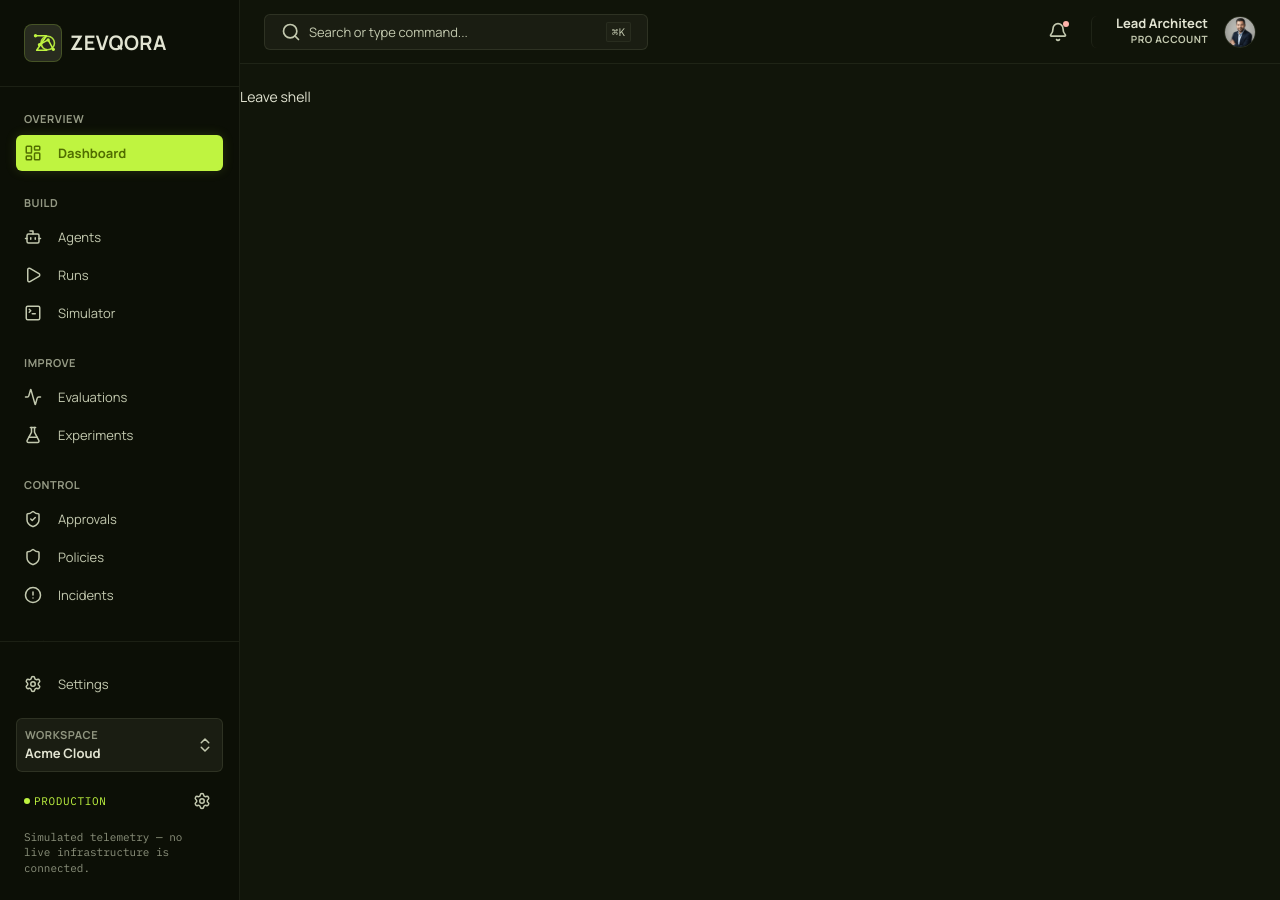
search and route transitions › starts unlocked, locks on search, and releases on Escape and search-result navigation
Click the button "Search or type command... ⌘K".
click(456, 32)  # box [264,14,648,50]
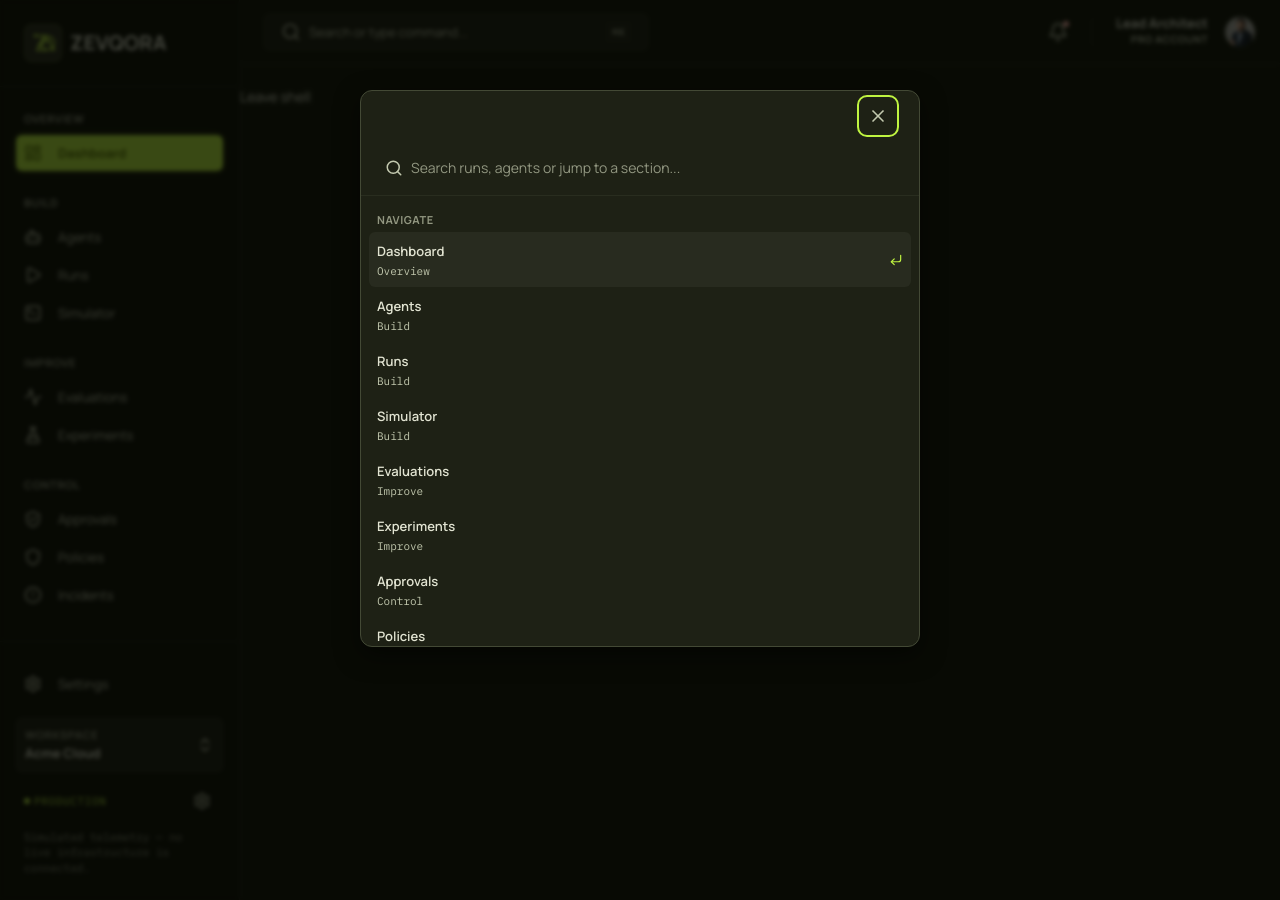
Press Escape
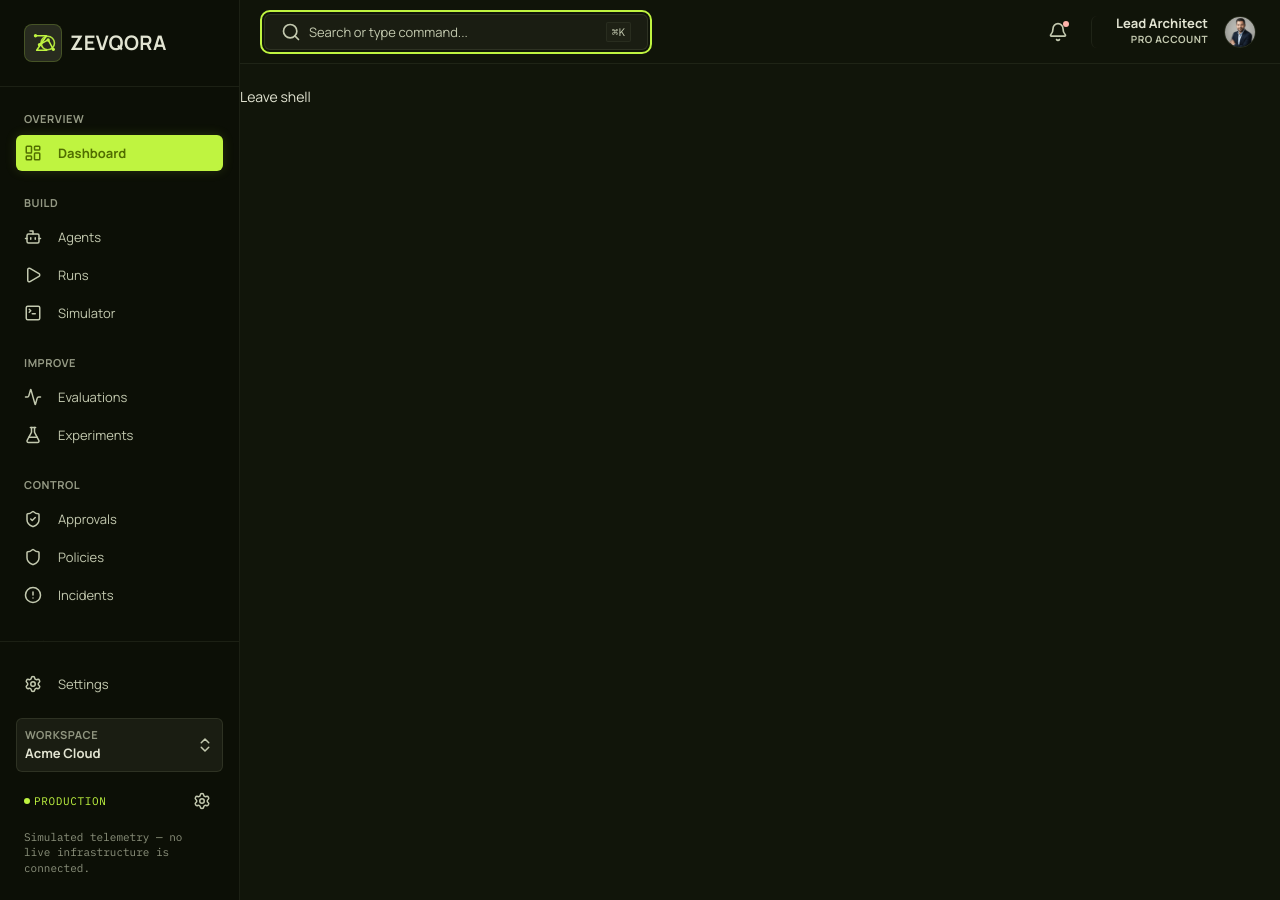
Click the button "Search or type command... ⌘K".
click(456, 32)  # box [264,14,648,50]
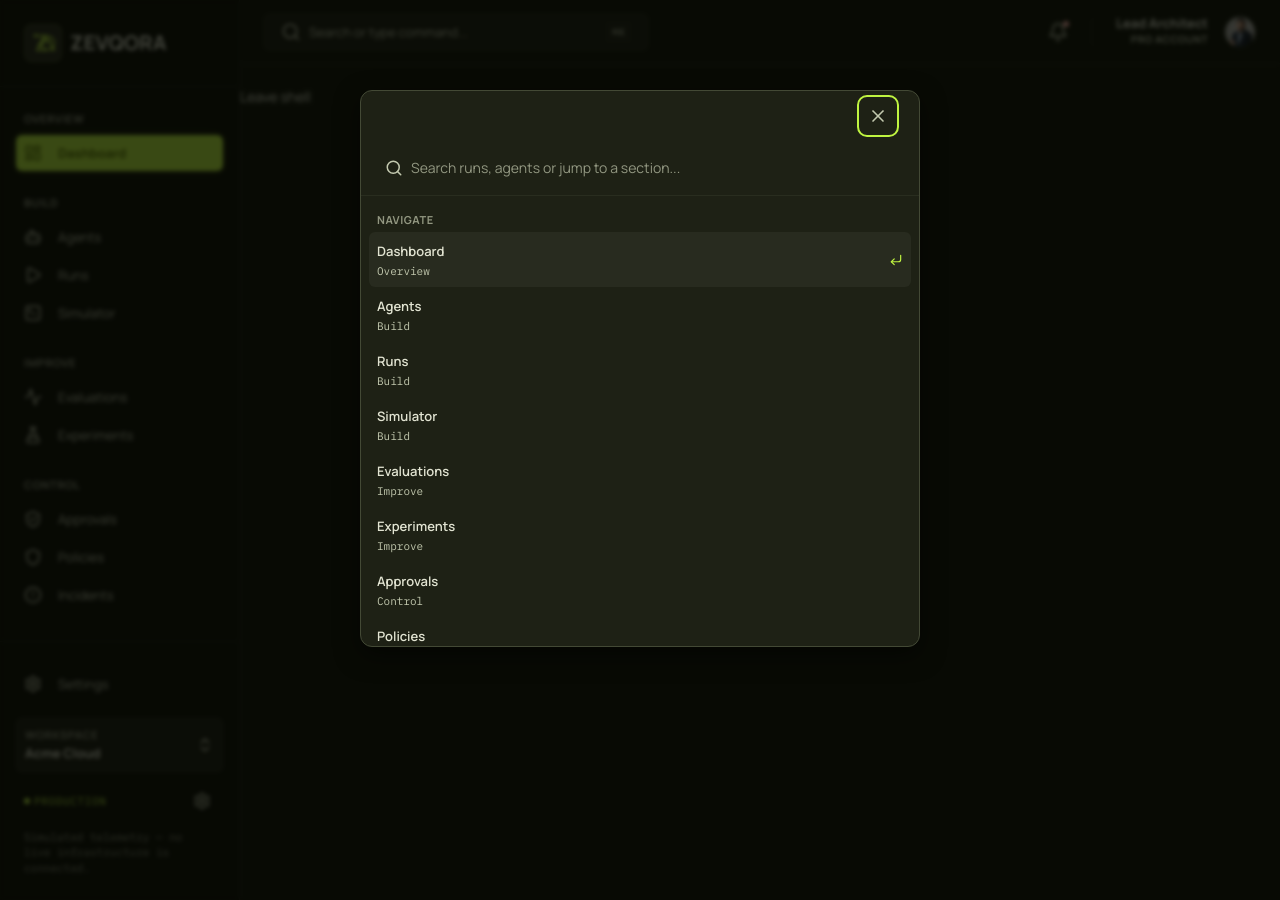
Click the option "Runs Build".
click(393, 361)  # box [369,342,911,397]
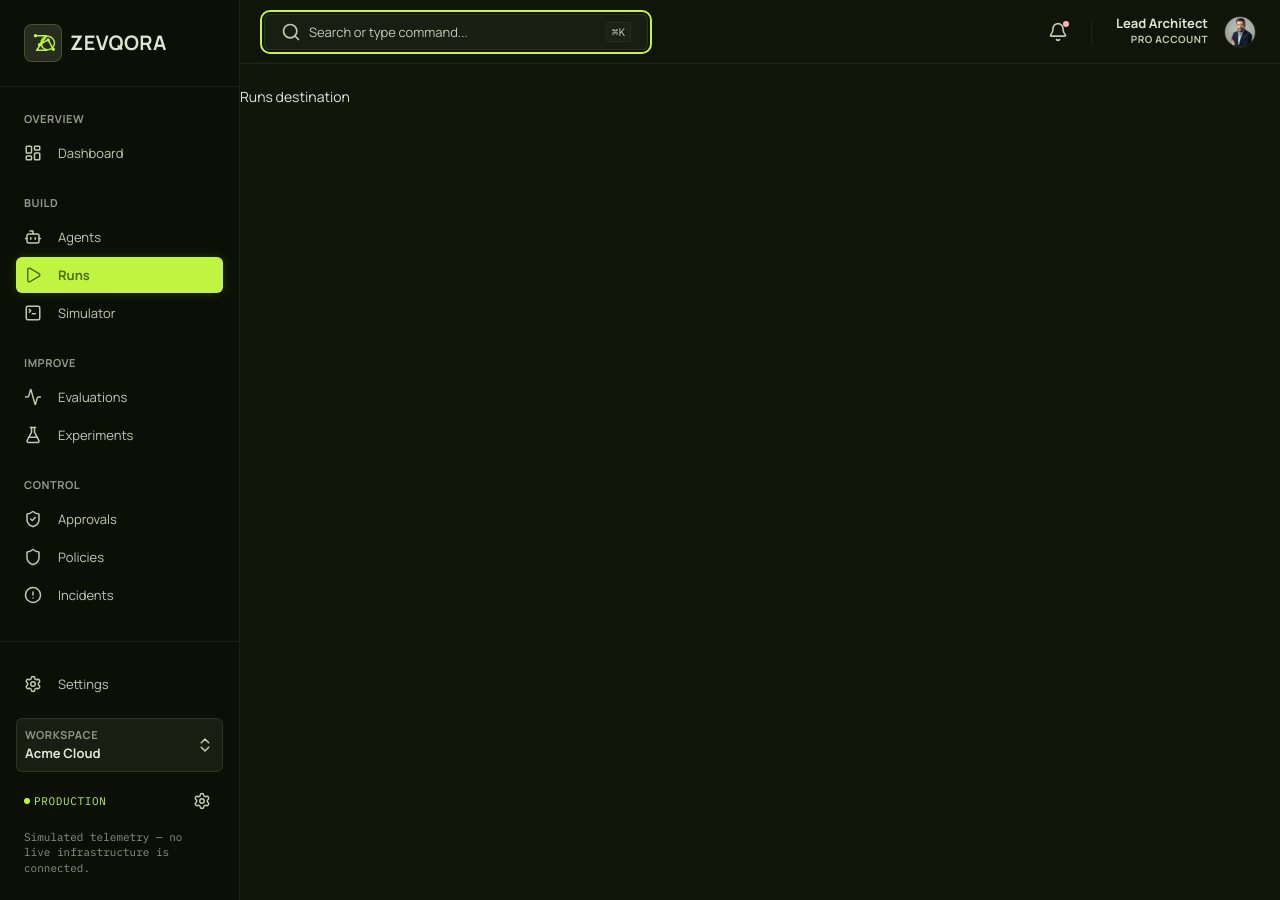
Expected: the text "Runs destination" is shown, [240,87,350,106]
